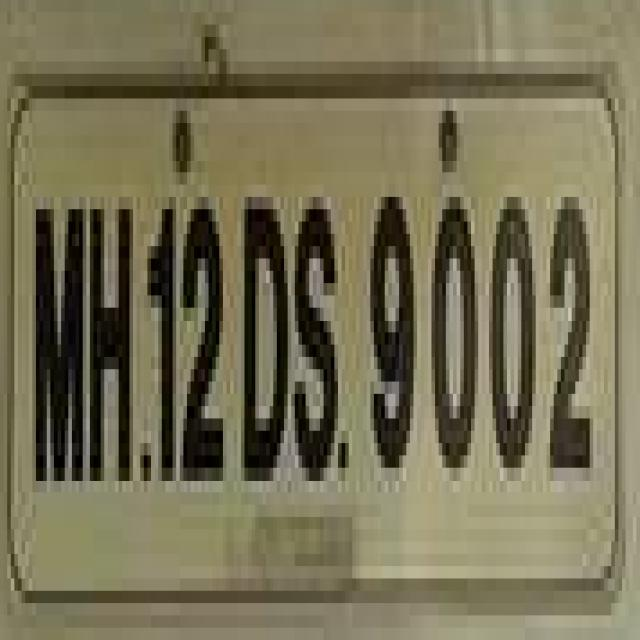license_plate: (7, 49, 611, 616)
